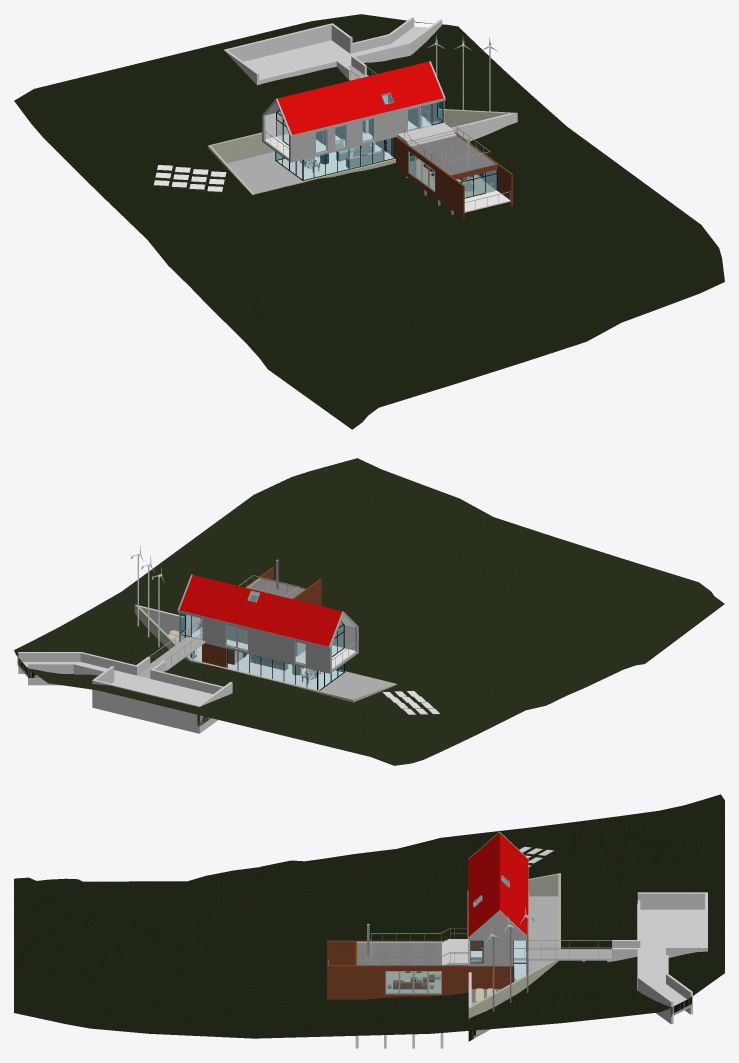
The picture shows the model from 3 angles, top to bottom: view 1: azimuth 30°, elevation 25°; view 2: azimuth 150°, elevation 25°; view 3: azimuth 270°, elevation 25°; orthographic projection. The views are drawn at different scales.
Visible parts, largest first — view 1: 表面, SG Metal Panels roof, SIP 202mm Wall - conc clad, Wall - Timber Clad (×2), 150mm Foundation Slab, Retaining - 300mm Concrete (×2), CL_W1 (×2), Warm Roof - Timber, Concrete-Domestic 425mm, Generic 150mm, Foundation - 300mm Concrete, Timber Suspended Floor; view 2: 表面, SG Metal Panels roof, Retaining - 300mm Concrete (×5), SIP 202mm Wall - conc clad, 150mm Foundation Slab, Generic 150mm, Concrete-Domestic 425mm, Insitu Concrete 225mm, Foundation - 300mm Concrete, CL_W1, Warm Roof - Timber; view 3: 表面, Wall - Timber Clad (×2), SG Metal Panels roof, 150mm Foundation Slab, Insitu Concrete 225mm (×2), Warm Roof - Timber, SIP 202mm Wall - conc clad, Retaining - 300mm Concrete (×2), CL_W1 (×2), Timber Suspended Floor, 220mm Thickness.
Boxes of the visible parts, x1,y1,x2,y2 form: 表面: (14, 14, 724, 429); SG Metal Panels roof: (265, 61, 443, 135); SIP 202mm Wall - conc clad: (292, 98, 443, 162); Wall - Timber Clad (×2): (395, 110, 512, 217); 150mm Foundation Slab: (243, 26, 428, 78); Retaining - 300mm Concrete (×2): (226, 23, 412, 65); CL_W1 (×2): (208, 108, 517, 163); Warm Roof - Timber: (412, 136, 495, 175); Concrete-Domestic 425mm: (234, 161, 302, 192); Generic 150mm: (277, 142, 393, 179); Foundation - 300mm Concrete: (451, 113, 513, 141); Timber Suspended Floor: (410, 158, 496, 197); 表面: (14, 458, 724, 765); SG Metal Panels roof: (179, 575, 354, 646); Retaining - 300mm Concrete (×5): (18, 652, 223, 732); SIP 202mm Wall - conc clad: (179, 610, 328, 673); 150mm Foundation Slab: (22, 662, 212, 704); Generic 150mm: (193, 645, 343, 690); Concrete-Domestic 425mm: (320, 672, 392, 698); Insitu Concrete 225mm: (137, 636, 205, 678); Foundation - 300mm Concrete: (139, 605, 184, 634); CL_W1: (134, 604, 192, 660); Warm Roof - Timber: (248, 579, 303, 598); 表面: (14, 794, 724, 1038); Wall - Timber Clad (×2): (327, 940, 513, 999); SG Metal Panels roof: (468, 832, 528, 936); 150mm Foundation Slab: (640, 909, 704, 1005); Insitu Concrete 225mm (×2): (528, 896, 612, 973); Warm Roof - Timber: (357, 943, 441, 965); SIP 202mm Wall - conc clad: (468, 910, 528, 966); Retaining - 300mm Concrete (×2): (637, 892, 707, 1024); CL_W1 (×2): (467, 873, 560, 1034); Timber Suspended Floor: (386, 971, 440, 992); 220mm Thickness: (450, 939, 468, 965).
Size of the model in its own units: 53.33 by 17.94 by 75.44.
91 materials, 14 textured.
